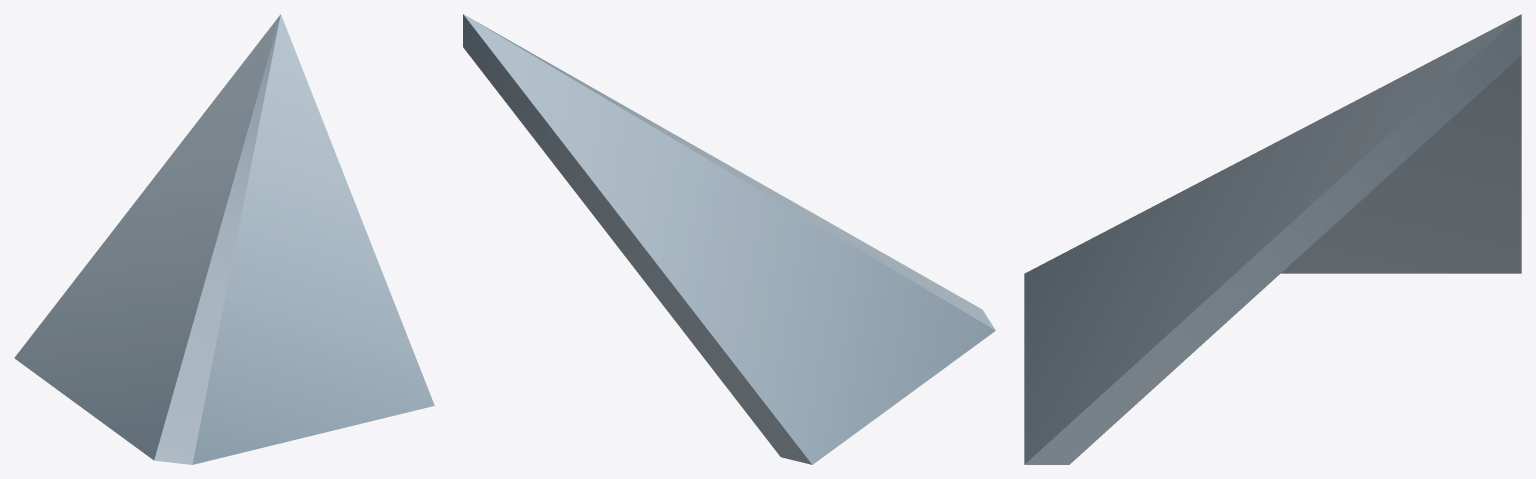
The model's file is Ceiling_Corner_1_LODGroup.fbx.
3 renders of one model, left to right at view 1: azimuth 30°, elevation 25°; view 2: azimuth 150°, elevation 25°; view 3: azimuth 270°, elevation 25°, orthographic. The views are drawn at different scales.
Visible parts, largest first — view 1: Ceiling Corner 1_LOD0; view 2: Ceiling Corner 1_LOD0; view 3: Ceiling Corner 1_LOD0.
Boxes of the visible parts, box(x1,y1,x2,y2) form: Ceiling Corner 1_LOD0: box(14, 14, 434, 464); Ceiling Corner 1_LOD0: box(463, 14, 995, 464); Ceiling Corner 1_LOD0: box(1024, 14, 1521, 464).
Size of what is drawn, in the model's own units: 1.1 by 1.1 by 1.1.
1 material, 1 textured.
